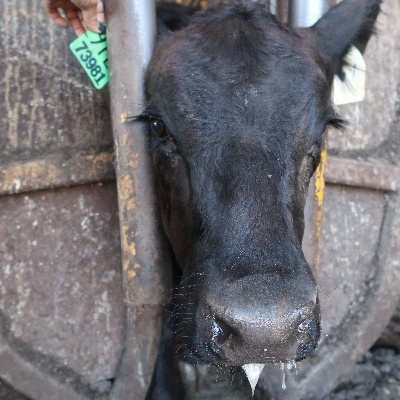fidget_spinner: (189, 289, 334, 370)
